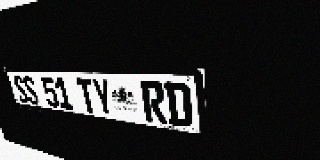1: (52, 77, 73, 110)
5: (40, 77, 60, 108)
D: (164, 82, 193, 128)
R: (140, 81, 168, 124)
S: (21, 76, 40, 105), (12, 75, 30, 104)
T: (75, 78, 98, 114)
Y: (91, 79, 115, 116)
